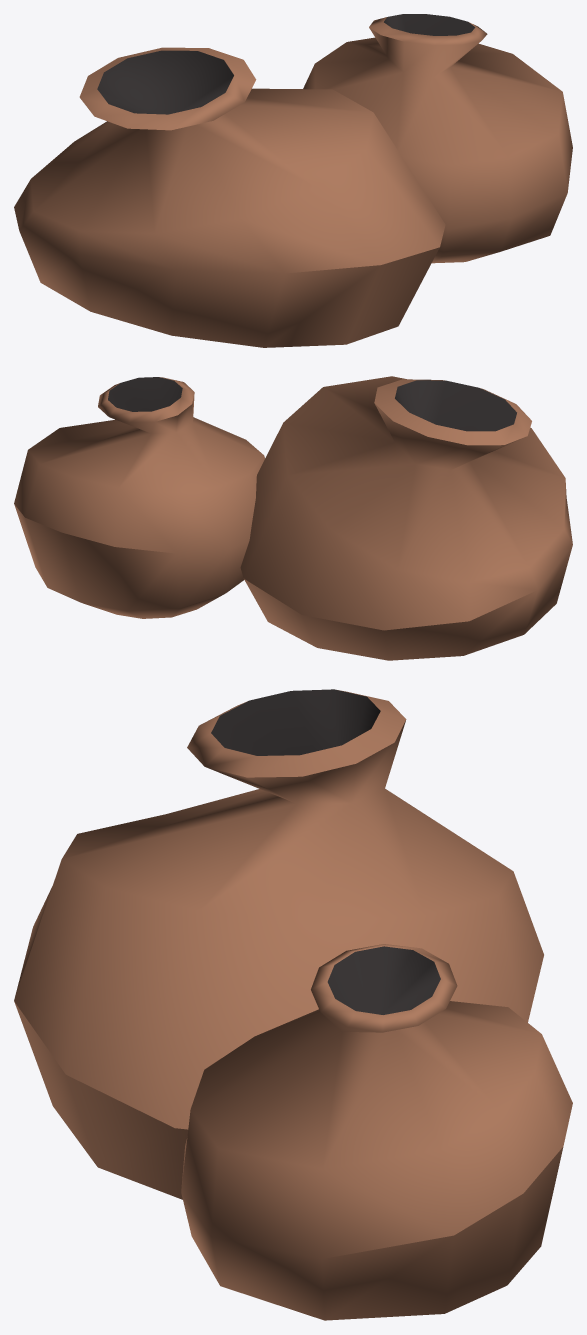
The model's file is jarro_1_pacote.glb.
The picture shows the model from 3 angles, top to bottom: view 1: azimuth 30°, elevation 25°; view 2: azimuth 150°, elevation 25°; view 3: azimuth 270°, elevation 25°; orthographic projection. The views are drawn at different scales.
Visible parts, largest first — view 1: jarro_1_pacote; view 2: jarro_1_pacote; view 3: jarro_1_pacote.
Part boxes in pixels (left/top/right/bottom): jarro_1_pacote: left=14, top=14, right=572, bottom=347; jarro_1_pacote: left=14, top=376, right=572, bottom=660; jarro_1_pacote: left=14, top=689, right=572, bottom=1320.
Size of the model in its own units: 0.7318 by 0.3407 by 0.4675.
Materials: 1 (1 with a texture image).
